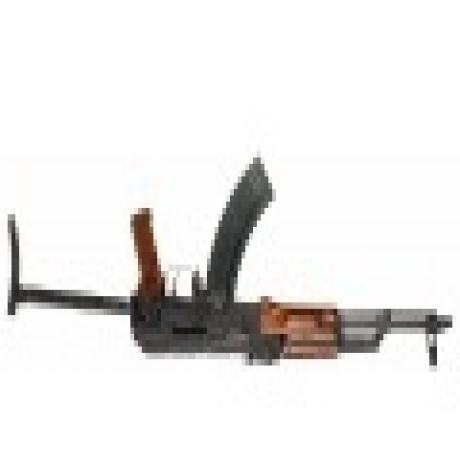weapon: (5, 156, 454, 368)
